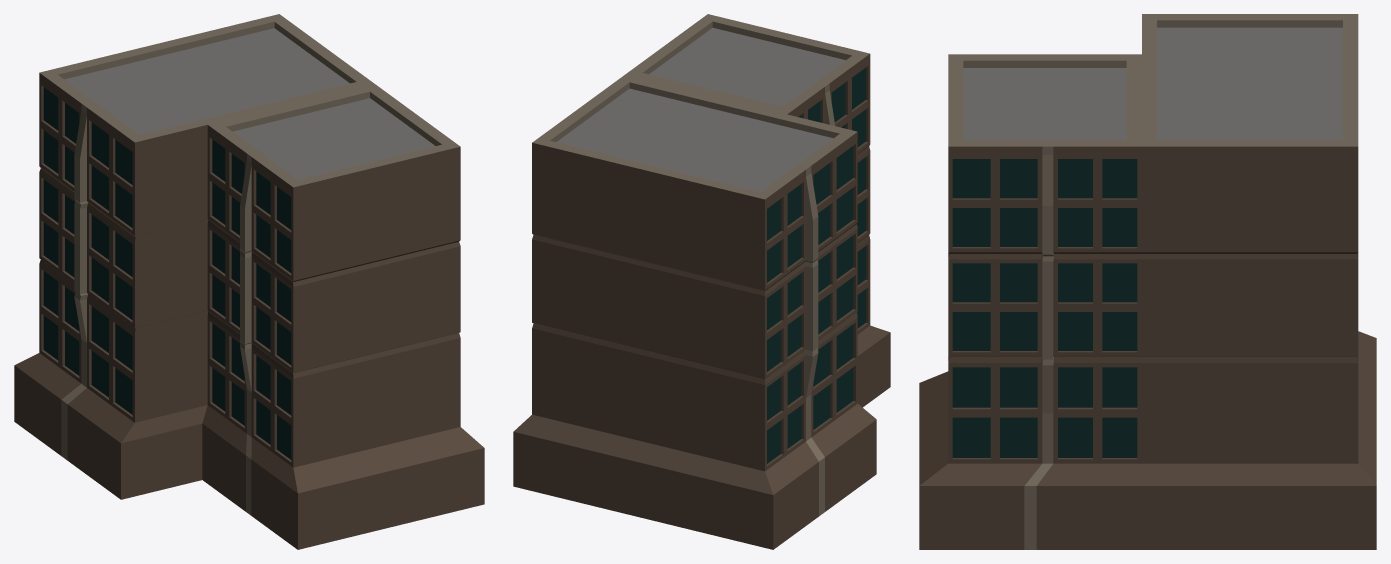
The model's file is poo4me.fbx.
3 views of the same model, side by side, from view 1: azimuth 30°, elevation 25°; view 2: azimuth 150°, elevation 25°; view 3: azimuth 270°, elevation 25° (orthographic). The views are drawn at different scales.
Parts seen in each view (by area): view 1: Cube.002; view 2: Cube.002; view 3: Cube.002.
Boxes of the visible parts, <box> form: Cube.002: <box>14,14,484,549</box>; Cube.002: <box>513,14,890,549</box>; Cube.002: <box>919,14,1376,549</box>.
Bounding box in the file's own units: 555 × 695 × 725.
